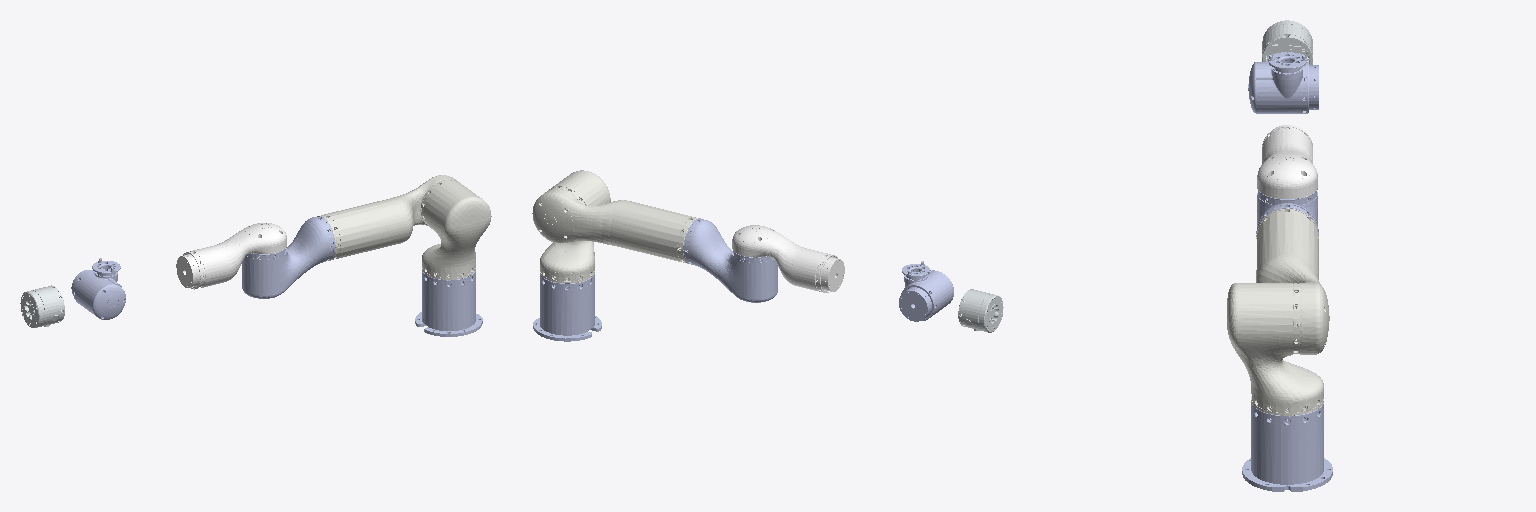
robot.urdf — RXL-6FB-V:
<?xml version="1.0" encoding="utf-8"?>
<!-- This URDF was automatically created by SolidWorks to URDF Exporter! Originally created by Stephen Brawner (brawner@gmail.com) 
     Commit Version: 1.6.0-4-g7f85cfe  Build Version: 1.6.7995.38578
     For more information, please see http://wiki.ros.org/sw_urdf_exporter -->
<robot
  name="RXL-6FB-V">
  <link
    name="base_link">
    <inertial>
      <origin
        xyz="-0.001567 0.000482 0.057387"
        rpy="0 0 0" />
      <mass
        value="1.36" />
      <inertia
        ixx="0.001538061"
        ixy="5.117e-06"
        ixz="-1.0816e-05"
        iyy="0.0015157"
        iyz="2.6121e-05"
        izz="0.001161949" />
    </inertial>
    <visual>
      <origin
        xyz="0 0 0"
        rpy="0 0 0" />
      <geometry>
        <mesh
          filename="package://rm_description/meshes/rm_rx75_arm/rm_rx75_left_arm_v/base_link.STL" />
      </geometry>
      <material
        name="">
        <color
          rgba="0.792156862745098 0.819607843137255 0.933333333333333 1" />
      </material>
    </visual>
    <collision>
      <origin
        xyz="0 0 0"
        rpy="0 0 0" />
      <geometry>
        <mesh
          filename="package://rm_description/meshes/rm_rx75_arm/rm_rx75_left_arm_v/base_link.STL" />
      </geometry>
    </collision>
  </link>
  <link
    name="Link1">
    <inertial>
      <origin
        xyz="-0.488E-3 -13.727E-3 -10.765E-3"
        rpy="0 0 0" />
      <mass
        value="1.559" />
      <inertia
        ixx="2661.923E-6"
        ixy="-31.029E-6"
        ixz="9.34E-6"
        iyy="2302.513E-6"
        iyz="151.466E-6"
        izz="1676.59E-6" />
    </inertial>
    <visual>
      <origin
        xyz="0 0 0"
        rpy="0 0 0" />
      <geometry>
        <mesh
          filename="package://rm_description/meshes/rm_rx75_arm/rm_rx75_left_arm_v/Link1.STL" />
      </geometry>
      <material
        name="">
        <color
          rgba="0.925490196078431 0.925490196078431 0.905882352941176 1" />
      </material>
    </visual>
    <collision>
      <origin
        xyz="0 0 0"
        rpy="0 0 0" />
      <geometry>
        <mesh
          filename="package://rm_description/meshes/rm_rx75_arm/rm_rx75_left_arm_v/Link1.STL" />
      </geometry>
    </collision>
  </link>
  <joint
    name="J1"
    type="revolute">
    <origin
      xyz="0 0 0.191500058118611"
      rpy="0 0 0" />
    <parent
      link="base_link" />
    <child
      link="Link1" />
    <axis
      xyz="0 0 1" />
    <limit
      lower="-3.0194"
      upper="3.0194"
      effort="60"
      velocity="3.14" />
  </joint>
  <link
    name="Link2">
    <inertial>
      <origin
        xyz="-0.000112 0.148134 -0.00411099999999801"
        rpy="0 0 0" />
      <mass
        value="1.394" />
      <inertia
        ixx="6927.314E-6"
        ixy="-3.01999999999947e-07"
        ixz="2.679e-06"
        iyy="0.00104500200000002"
        iyz="-801.141E-6"
        izz="6864.526E-6" />
    </inertial>
    <visual>
      <origin
        xyz="0 0 0"
        rpy="-3.14159265358978 0 0" />
      <geometry>
        <mesh
          filename="package://rm_description/meshes/rm_rx75_arm/rm_rx75_left_arm_v/Link2.STL" />
      </geometry>
      <material
        name="">
        <color
          rgba="0.925490196078431 0.925490196078431 0.905882352941176 1" />
      </material>
    </visual>
    <collision>
      <origin
        xyz="0 0 0"
        rpy="-3.14159265358978 0 0" />
      <geometry>
        <mesh
          filename="package://rm_description/meshes/rm_rx75_arm/rm_rx75_left_arm_v/Link2.STL" />
      </geometry>
    </collision>
  </link>
  <joint
    name="J2"
    type="revolute">
    <origin
      xyz="0 0 0"
      rpy="1.57079632679489 -1.57079632679489 0" />
    <parent
      link="Link1" />
    <child
      link="Link2" />
    <axis
      xyz="0 0 1" />
    <limit
      lower="-3.1067"
      upper="0.6109"
      effort="60"
      velocity="3.14" />
  </joint>
  <link
    name="Link3">
    <inertial>
      <origin
        xyz="-3.20000000000396e-05 0.0156490000000001 0.0112249999999999"
        rpy="0 0 0" />
      <mass
        value="1.117" />
      <inertia
        ixx="1757.334E-6"
        ixy="-7.06000000003537e-07"
        ixz="3.864E-6"
        iyy="1468.535E-6"
        iyz="0.000112640999999996"
        izz="979.743E-6" />
    </inertial>
    <visual>
      <origin
        xyz="0 0 0"
        rpy="-3.14159265358979 0 3.14159265358979" />
      <geometry>
        <mesh
          filename="package://rm_description/meshes/rm_rx75_arm/rm_rx75_left_arm_v/Link3.STL" />
      </geometry>
      <material
        name="">
        <color
          rgba="0.792156862745098 0.819607843137255 0.933333333333333 1" />
      </material>
    </visual>
    <collision>
      <origin
        xyz="0 0 0"
        rpy="-3.14159265358979 0 3.14159265358979" />
      <geometry>
        <mesh
          filename="package://rm_description/meshes/rm_rx75_arm/rm_rx75_left_arm_v/Link3.STL" />
      </geometry>
    </collision>
  </link>
  <joint
    name="J3"
    type="revolute">
    <origin
      xyz="0 0.322 0"
      rpy="1.5707963267949 -1.5707963267949 0" />
    <parent
      link="Link2" />
    <child
      link="Link3" />
    <axis
      xyz="0 0 1" />
    <limit
      lower="-3.0194"
      upper="3.0194"
      effort="30"
      velocity="3.925" />
  </joint>
  <link
    name="Link4">
    <inertial>
      <origin
        xyz="1.00000000111348e-06 -0.0854489999999999 0.00484400000000123"
        rpy="0 0 0" />
      <mass
        value="0.673" />
      <inertia
        ixx="1283.435E-6"
        ixy="-0.072E-6"
        ixz="-2.99999999672904e-09"
        iyy="344.097E-6"
        iyz="-0.000229827999999987"
        izz="1257.753E-6" />
    </inertial>
    <visual>
      <origin
        xyz="0 0 0"
        rpy="0 0 -3.14159265358978" />
      <geometry>
        <mesh
          filename="package://rm_description/meshes/rm_rx75_arm/rm_rx75_left_arm_v/Link4.STL" />
      </geometry>
      <material
        name="">
        <color
          rgba="1 1 1 1" />
      </material>
    </visual>
    <collision>
      <origin
        xyz="0 0 0"
        rpy="0 0 -3.14159265358978" />
      <geometry>
        <mesh
          filename="package://rm_description/meshes/rm_rx75_arm/rm_rx75_left_arm_v/Link4.STL" />
      </geometry>
    </collision>
  </link>
  <joint
    name="J4"
    type="revolute">
    <origin
      xyz="0 0 0"
      rpy="1.5707963267949 0 0" />
    <parent
      link="Link3" />
    <child
      link="Link4" />
    <axis
      xyz="0 0 1" />
    <limit
      lower="-2.2689"
      upper="0.2618"
      effort="30"
      velocity="3.925" />
  </joint>
  <link
    name="Link5">
    <inertial>
      <origin
        xyz="9.9999999881214e-07 -0.0147409999999994 0.0806270000000001"
        rpy="0 0 0" />
      <mass
        value="1.13" />
      <inertia
        ixx="2343.205E-6"
        ixy="-7.39999999969439e-08"
        ixz="-0.026E-6"
        iyy="1934.356E-6"
        iyz="-0.000443762000000006"
        izz="1091.781E-6" />
    </inertial>
    <visual>
      <origin
        xyz="0 0 0"
        rpy="-3.14159265358979 0 3.14159265358979" />
      <geometry>
        <mesh
          filename="package://rm_description/meshes/rm_rx75_arm/rm_rx75_left_arm_v/Link5.STL" />
      </geometry>
      <material
        name="">
        <color
          rgba="1 1 1 1" />
      </material>
    </visual>
    <collision>
      <origin
        xyz="0 0 0"
        rpy="-3.14159265358979 0 3.14159265358979" />
      <geometry>
        <mesh
          filename="package://rm_description/meshes/rm_rx75_arm/rm_rx75_left_arm_v/Link5.STL" />
      </geometry>
    </collision>
  </link>
  <joint
    name="J5"
    type="revolute">
    <origin
      xyz="0 -0.2755 0"
      rpy="-1.5707963267949 0 0" />
    <parent
      link="Link4" />
    <child
      link="Link5" />
    <axis
      xyz="0 0 1" />
    <limit
      lower="-3.0194"
      upper="3.0194"
      effort="10"
      velocity="3.925" />
  </joint>
  <link
    name="Link6">
    <inertial>
      <origin
        xyz="-0.013909 0.00101999999999979 0.00324500000000011"
        rpy="0 0 0" />
      <mass
        value="0.559" />
      <inertia
        ixx="354.166E-6"
        ixy="0.248E-6"
        ixz="-2.76080000000003e-05"
        iyy="288.125E-6"
        iyz="6.93999999999473e-07"
        izz="312.482E-6" />
    </inertial>
    <visual>
      <origin
        xyz="0 0 0"
        rpy="0 0 -3.14159265358978" />
      <geometry>
        <mesh
          filename="package://rm_description/meshes/rm_rx75_arm/rm_rx75_left_arm_v/Link6.STL" />
      </geometry>
      <material
        name="">
        <color
          rgba="0.792156862745098 0.819607843137255 0.933333333333333 1" />
      </material>
    </visual>
    <collision>
      <origin
        xyz="0 0 0"
        rpy="0 0 -3.14159265358978" />
      <geometry>
        <mesh
          filename="package://rm_description/meshes/rm_rx75_arm/rm_rx75_left_arm_v/Link6.STL" />
      </geometry>
    </collision>
  </link>
  <joint
    name="J6"
    type="revolute">
    <origin
      xyz="0 0 0"
      rpy="1.57079632679489 -1.5707963267949 0" />
    <parent
      link="Link5" />
    <child
      link="Link6" />
    <axis
      xyz="0 0 1" />
    <limit
      lower="-0.9599"
      upper="0.9599"
      effort="10"
      velocity="3.925" />
  </joint>
  <link
    name="Link7">
    <inertial>
      <origin
        xyz="0.0200245215947035 0.070999852893566 -0.00439599999945856"
        rpy="0 0 0" />
      <mass
        value="0.483" />
      <inertia
        ixx="0.000810608726145099"
        ixy="-0.000154758491298158"
        ixz="-4.1707977380337e-05"
        iyy="0.00115209727385716"
        iyz="-0.000133038693603863"
        izz="1640.216E-6" />
    </inertial>
    <visual>
      <origin
        xyz="0 0 0"
        rpy="-3.14159265358978 -2.6991076040872e-11 -7.34641021371552e-06" />
      <geometry>
        <mesh
          filename="package://rm_description/meshes/rm_rx75_arm/rm_rx75_left_arm_v/Link7.STL" />
      </geometry>
      <material
        name="">
        <color
          rgba="0.89804 0.91765 0.92941 1" />
      </material>
    </visual>
    <collision>
      <origin
        xyz="0 0 0"
        rpy="-3.14159265358978 -2.6991076040872e-11 -7.34641021371552e-06" />
      <geometry>
        <mesh
          filename="package://rm_description/meshes/rm_rx75_arm/rm_rx75_left_arm_v/Link7.STL" />
      </geometry>
    </collision>
  </link>
  <joint
    name="J7"
    type="revolute">
    <origin
      xyz="-0.0155 0 0"
      rpy="-1.57079265346976 -1.57079265358979 3.14159265346976" />
    <parent
      link="Link6" />
    <child
      link="Link7" />
    <axis
      xyz="-2.69911102066782e-11 0 1" />
    <limit
      lower="-1.9024"
      upper="0.6109"
      effort="10"
      velocity="3.925" />
  </joint>
  <link
    name="Link8">
    <inertial>
      <origin
        xyz="-0.00022351 8.8364E-05 -0.017157"
        rpy="0 0 0" />
      <mass
        value="0.16582" />
      <inertia
        ixx="4.8849E-05"
        ixy="-9.4591E-08"
        ixz="3.0619E-07"
        iyy="4.9461E-05"
        iyz="8.0268E-09"
        izz="7.6902E-05" />
    </inertial>
    <visual>
      <origin
        xyz="0 0 0"
        rpy="-3.14159265358978 -7.34641021349347e-06 2.6991076040872e-11" />
      <geometry>
        <mesh
          filename="package://rm_description/meshes/rm_rx75_arm/rm_rx75_left_arm_v/Link8.STL" />
      </geometry>
      <material
        name="">
        <color
          rgba="0.89804 0.91765 0.92941 1" />
      </material>
    </visual>
    <collision>
      <origin
        xyz="0 0 0"
        rpy="-3.14159265358978 -7.34641021349347e-06 2.6991076040872e-11" />
      <geometry>
        <mesh
          filename="package://rm_description/meshes/rm_rx75_arm/rm_rx75_left_arm_v/Link8.STL" />
      </geometry>
    </collision>
  </link>
  <joint
    name="J8"
    type="revolute">
    <origin
      xyz="8.74222845666252e-07 0.119000004113937 0"
      rpy="1.57079632679489 0 0" />
    <parent
      link="Link7" />
    <child
      link="Link8" />
    <axis
      xyz="0 0 1" />
    <limit
      lower="0"
      upper="0"
      effort="0"
      velocity="0" />
  </joint>
</robot>

--- Render facts (derived) ---
The picture shows the robot from 3 angles, left to right: view 1: azimuth 30°, elevation 25°; view 2: azimuth 150°, elevation 25°; view 3: azimuth 270°, elevation 25°; orthographic projection.
Robot: RXL-6FB-V — 9 links, 8 joints (8 revolute); root link base_link; default pose: every joint at zero.
Links seen in each view (by area): view 1: Link1, Link2, Link3, Link4, base_link, Link6, Link8; view 2: Link2, Link3, Link4, base_link, Link1, Link6, Link8; view 3: Link1, Link2, base_link, Link6, Link4, Link8, Link3.
Link boxes in pixels (x1,y1,x2,y2): Link1: (420, 179, 491, 279); Link2: (321, 175, 456, 260); Link3: (242, 216, 334, 298); Link4: (176, 223, 286, 289); base_link: (415, 271, 482, 336); Link6: (71, 258, 125, 319); Link8: (20, 285, 64, 327); Link2: (532, 189, 697, 263); Link3: (683, 218, 777, 302); Link4: (732, 225, 844, 292); base_link: (533, 274, 601, 341); Link1: (540, 170, 610, 283); Link6: (899, 261, 953, 321); Link8: (958, 289, 1003, 332); Link1: (1227, 283, 1323, 415); Link2: (1256, 208, 1329, 354); base_link: (1242, 403, 1332, 491); Link6: (1248, 52, 1318, 113); Link4: (1257, 125, 1317, 198); Link8: (1262, 20, 1312, 64); Link3: (1256, 188, 1318, 233).
Size in the robot's own frame: 0.7801 by 0.119 by 0.2387 metres.
Meshes: 9 distinct files referenced, 7 mesh visuals loaded (7 binary STL); not drawn: 2 (reference not matched to a file when rendering).
